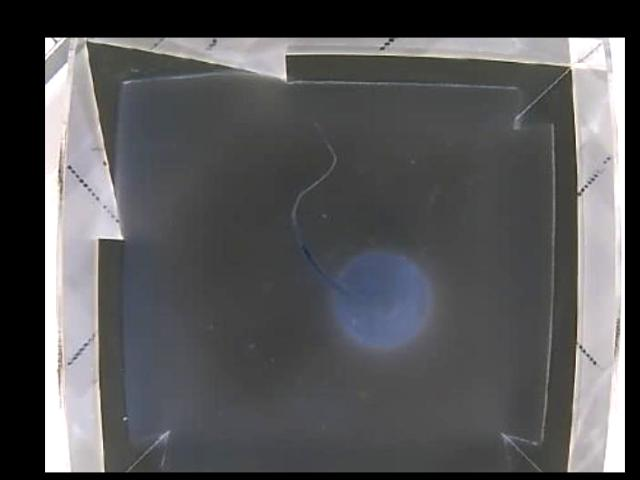Mooli: (335, 249, 428, 346)
